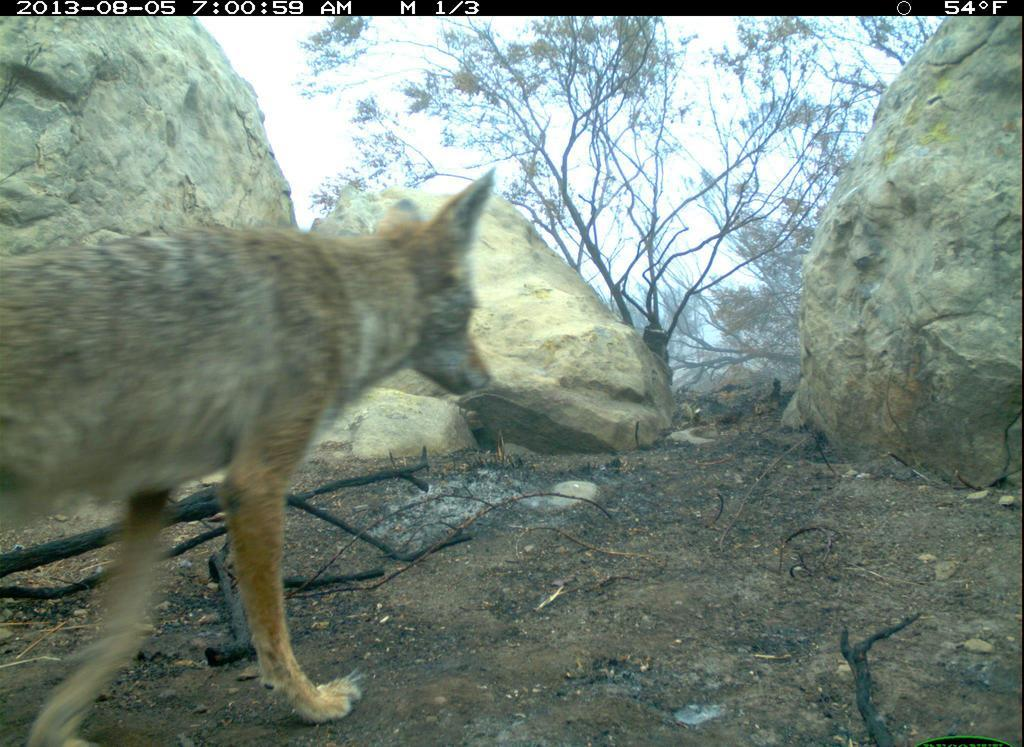coyote: (1, 162, 532, 747)
